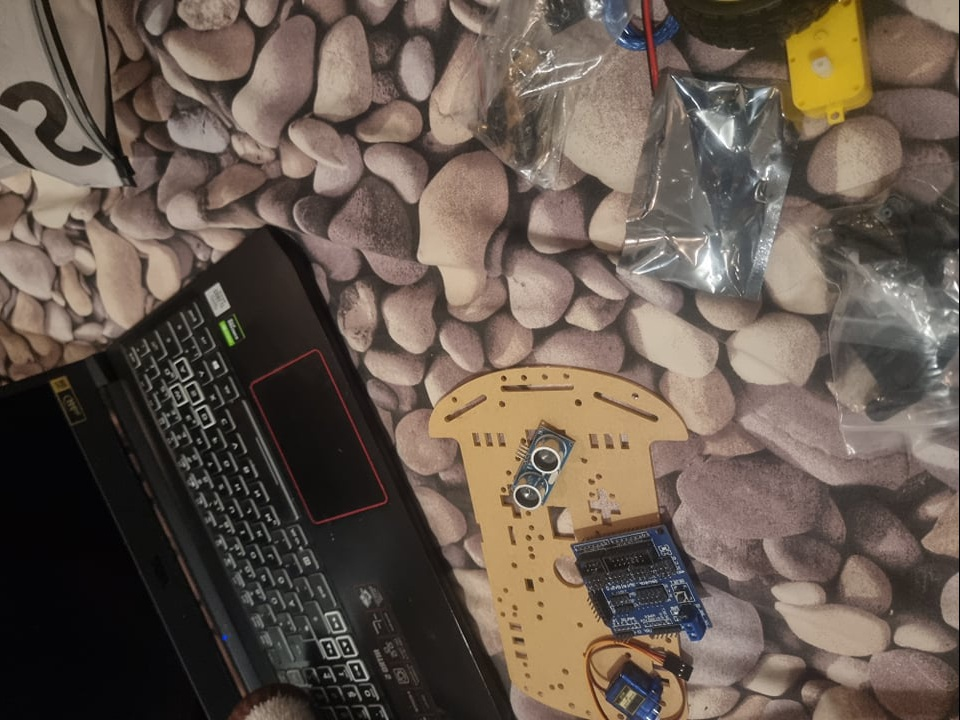5V EXPANSION: (570, 523, 718, 650)
SENSOR: (509, 420, 576, 519)
